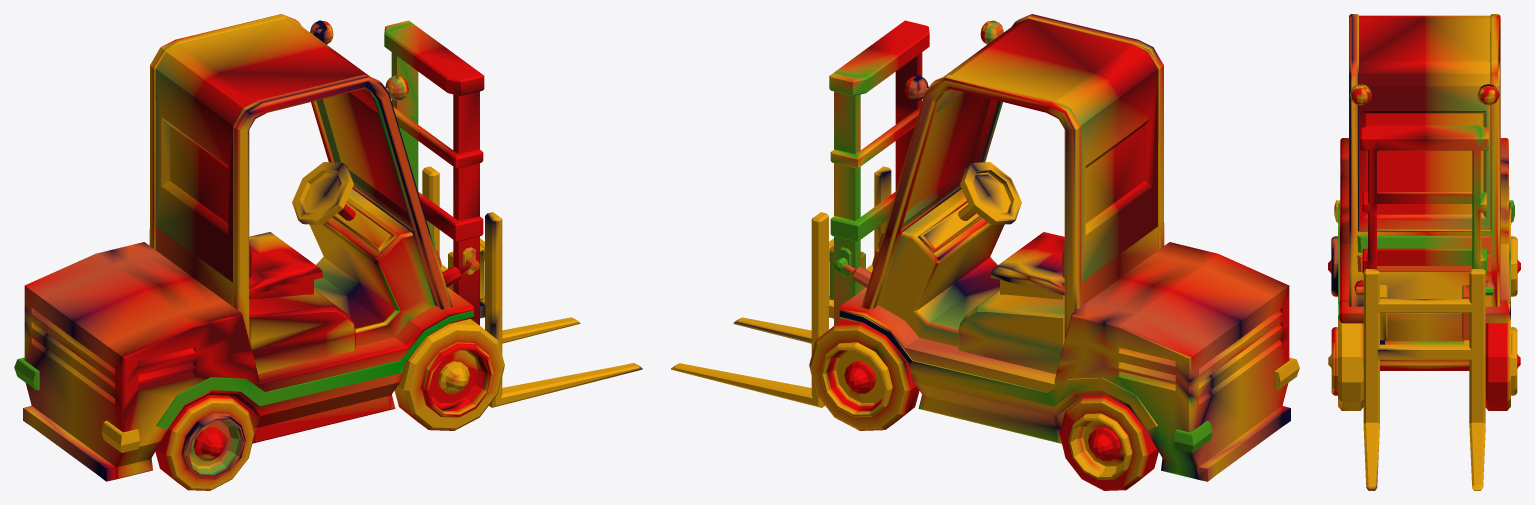
File: Forklift.obj
3 views of the same model, side by side, from view 1: azimuth 30°, elevation 25°; view 2: azimuth 150°, elevation 25°; view 3: azimuth 270°, elevation 25° (orthographic). The views are drawn at different scales.
Visible parts, largest first — view 1: forklift; view 2: forklift; view 3: forklift.
Boxes of the visible parts, left/top/right/bottom form: forklift: left=14, top=14, right=642, bottom=490; forklift: left=671, top=14, right=1299, bottom=490; forklift: left=1328, top=14, right=1520, bottom=490.
Size of the model in its own units: 196 by 127 by 70.82.
